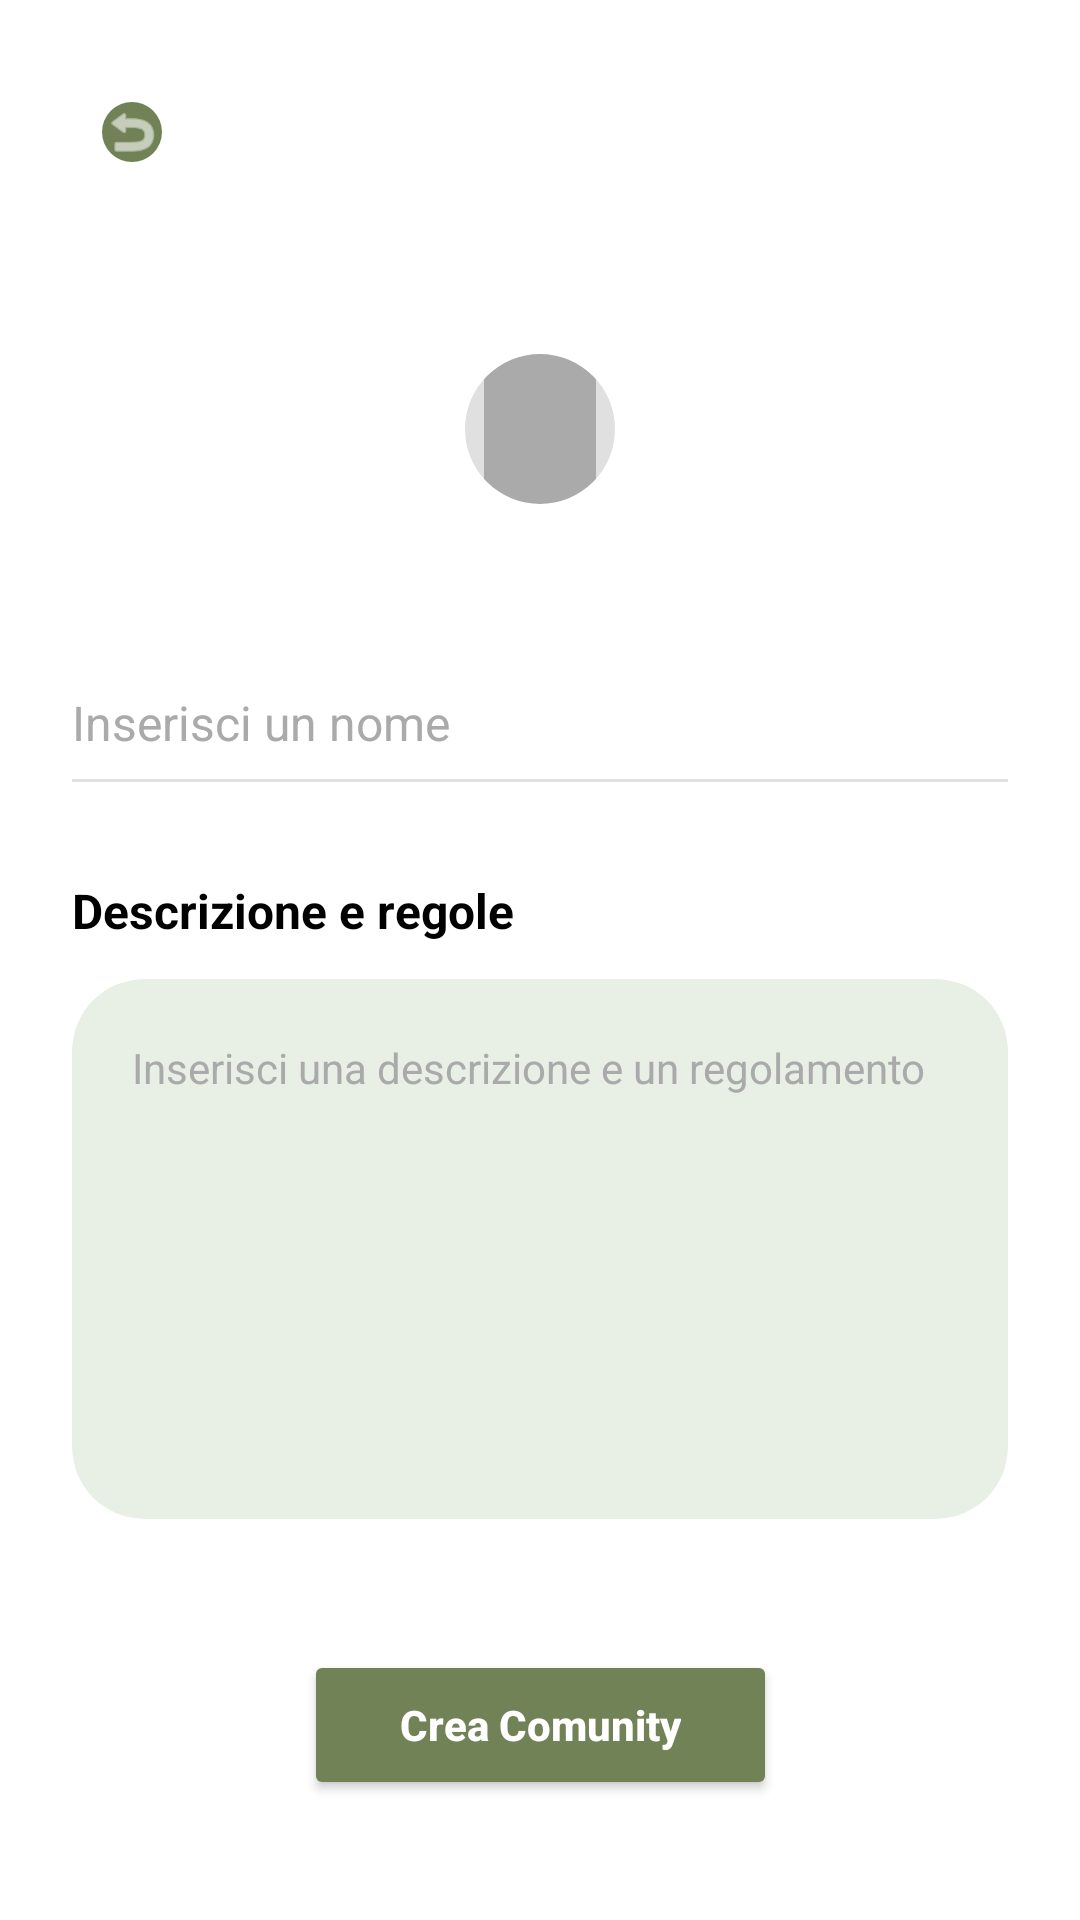

Icons on this 1080x1920 Android screen, each with the point to tap as (x,y):
revert: (132,132)
